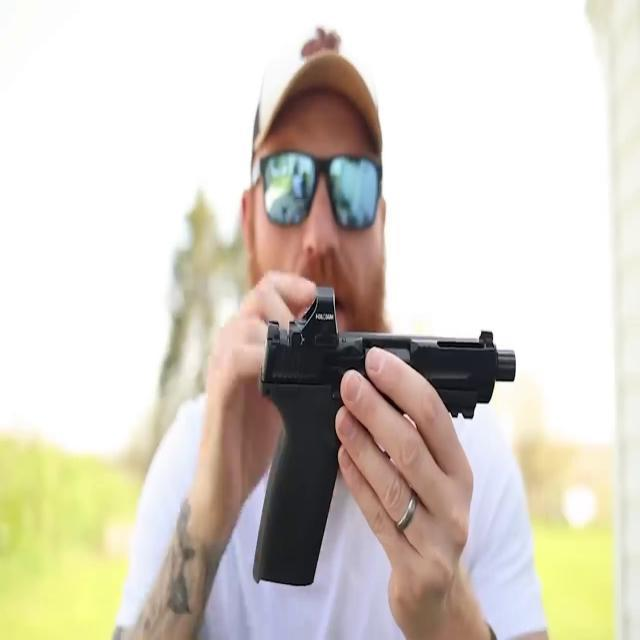Handgun: (252, 272, 526, 596)
